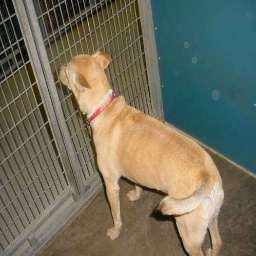dog: (60, 47, 225, 254)
